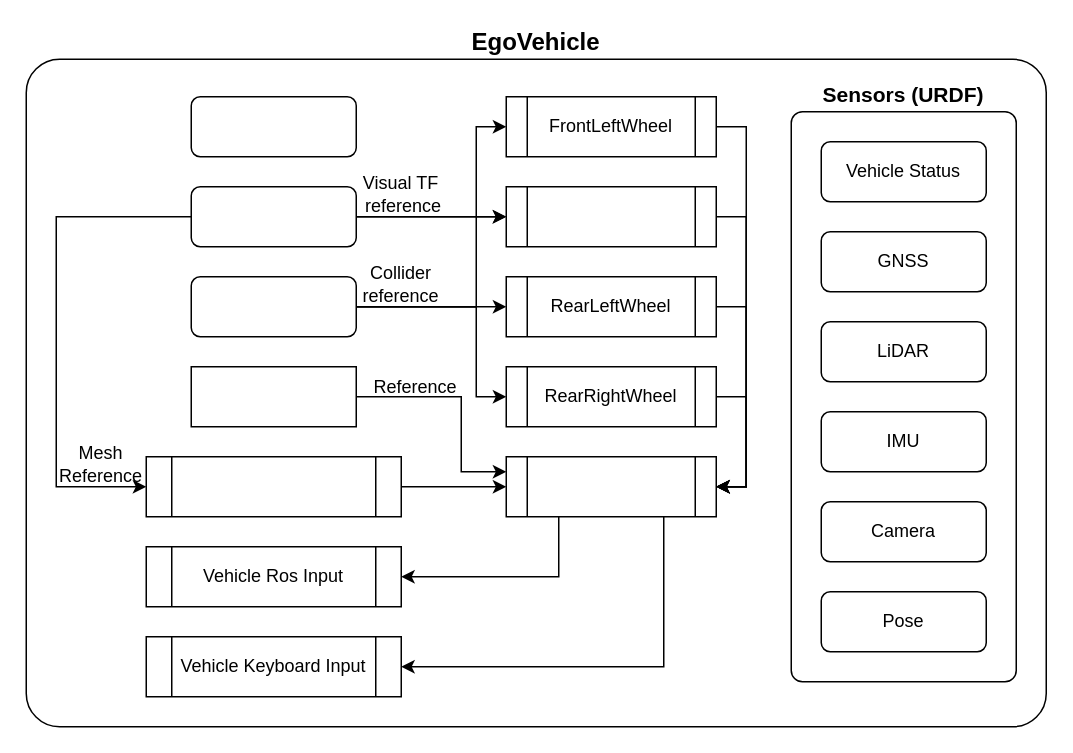
The diagram is 1073 pixels wide and 753 high, and some of its shapes have lost their labels. Each missing label, with the centre of its shape:
"Colliders" goes at point 273,306.
"CoM" goes at point 273,396.
"FrontRightWheel" goes at point 610,216.
"Models" goes at point 273,216.
"Reflection Probe" goes at point 273,126.
"Vehicle" goes at point 610,486.
"Vehicle Visual Effect" goes at point 273,486.
